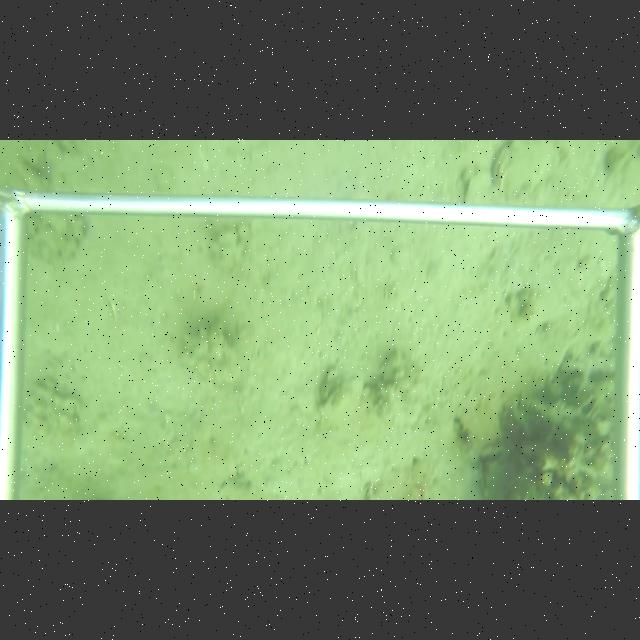Oyster-Closed: (492, 142, 568, 200)
